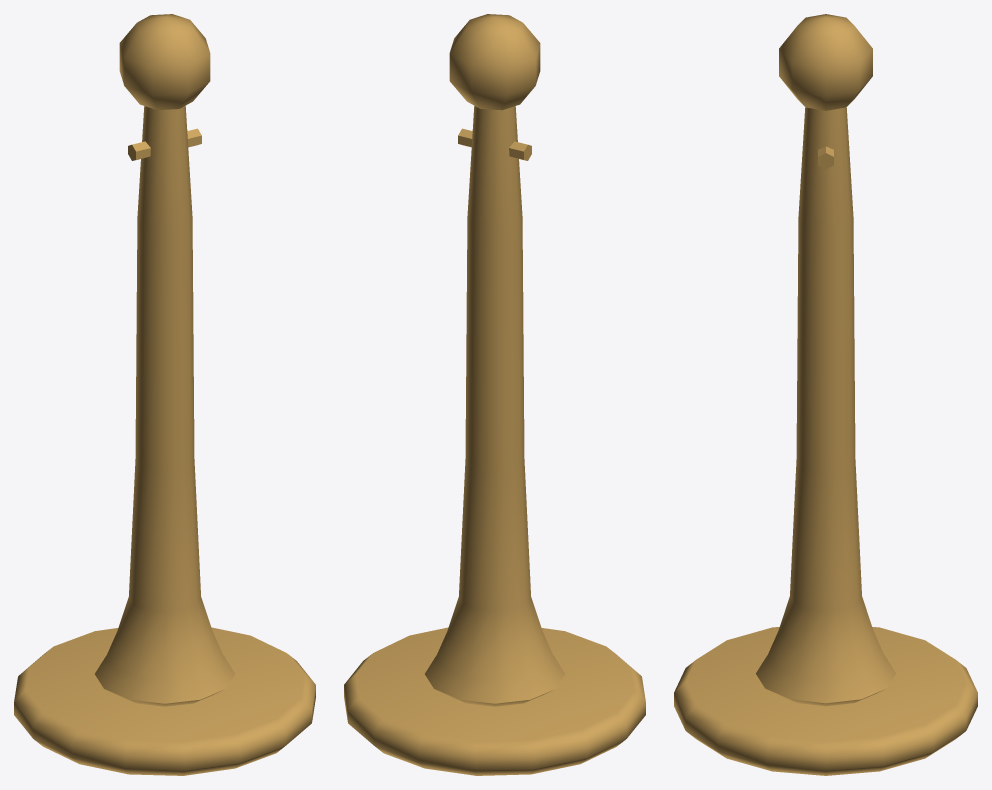
The model's file is stanchion.glb.
3 renders of one model, left to right at view 1: azimuth 30°, elevation 25°; view 2: azimuth 150°, elevation 25°; view 3: azimuth 270°, elevation 25°, orthographic.
Visible parts, largest first — view 1: stanchion; view 2: stanchion; view 3: stanchion.
Part boxes in pixels (x1,y1,x2,y2): stanchion: [14, 14, 315, 775]; stanchion: [344, 14, 645, 775]; stanchion: [674, 14, 977, 775].
Bounding box in the file's own units: 0.4 × 1.01 × 0.4.
